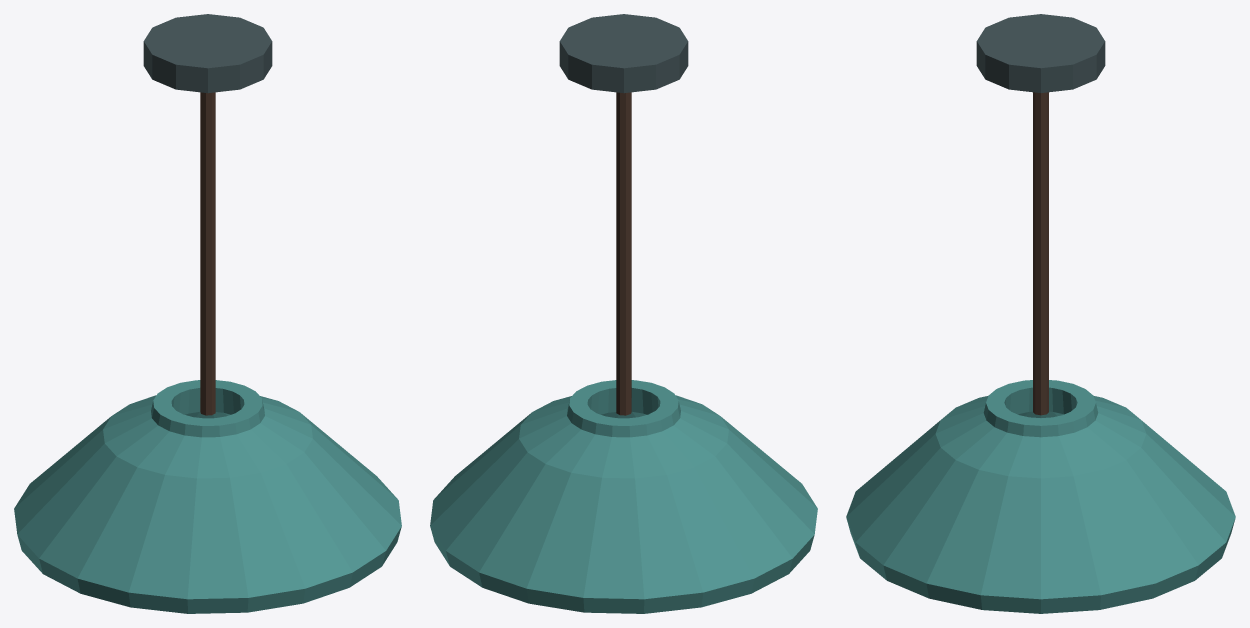
File: 12_Pendant_Lamp.glb
The picture shows the model from 3 angles, left to right: view 1: azimuth 30°, elevation 25°; view 2: azimuth 150°, elevation 25°; view 3: azimuth 270°, elevation 25°; orthographic projection.
Parts seen in each view (by area): view 1: 12_Pendant_Lamp__Body; view 2: 12_Pendant_Lamp__Body; view 3: 12_Pendant_Lamp__Body.
Boxes of the visible parts, x1,y1,x2,y2 form: 12_Pendant_Lamp__Body: (14,14,401,613); 12_Pendant_Lamp__Body: (430,14,817,613); 12_Pendant_Lamp__Body: (846,14,1235,613).
Bounding box in the file's own units: 1.7 × 2.37 × 1.7.
1 material, 1 textured.
